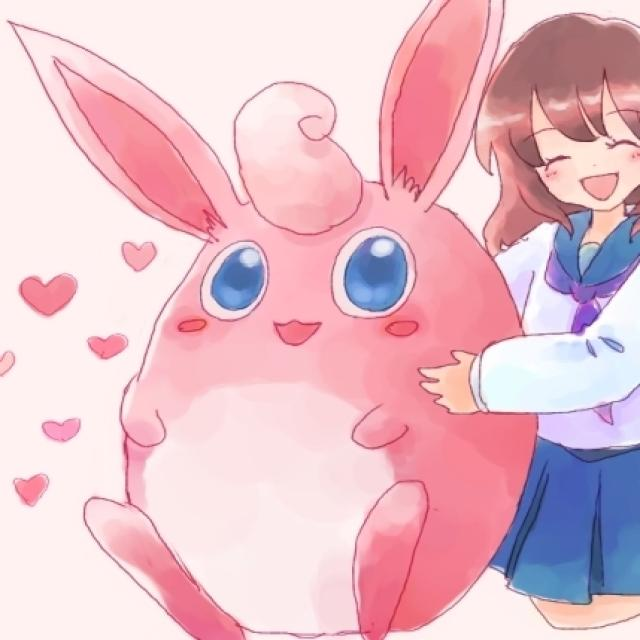Wigglytuff: (105, 79, 503, 640)
